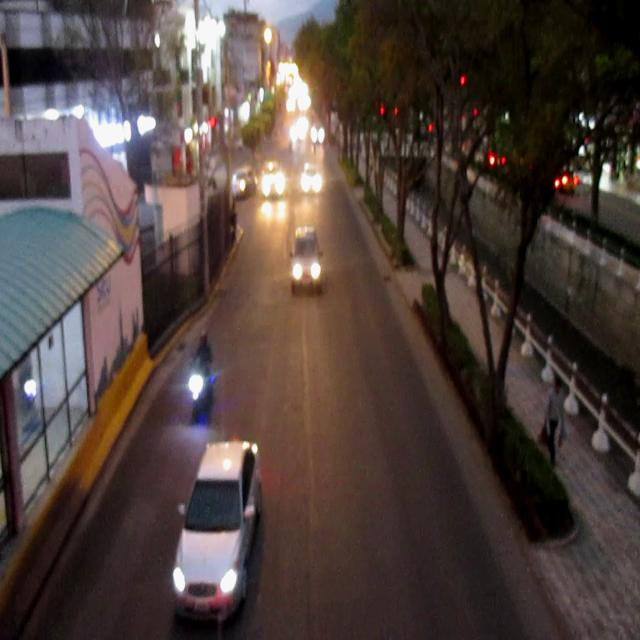MOTORCYCLE: (188, 357, 216, 427)
SED: (171, 443, 264, 619)
SUV: (290, 225, 325, 295)
